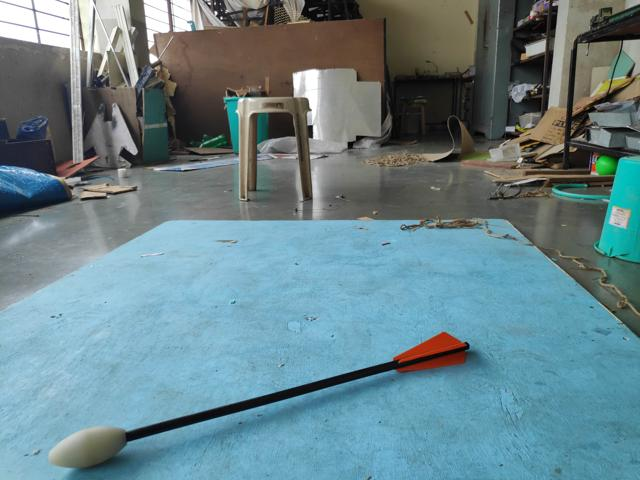Head: (45, 421, 130, 472)
Tail: (394, 330, 475, 378)
